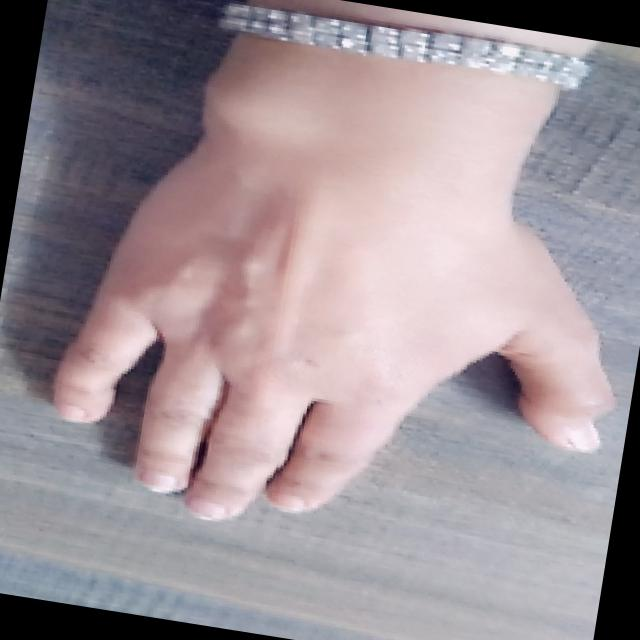Nail: (567, 423, 599, 451), (190, 499, 226, 521), (142, 471, 177, 493), (57, 404, 87, 420), (280, 495, 306, 511)
